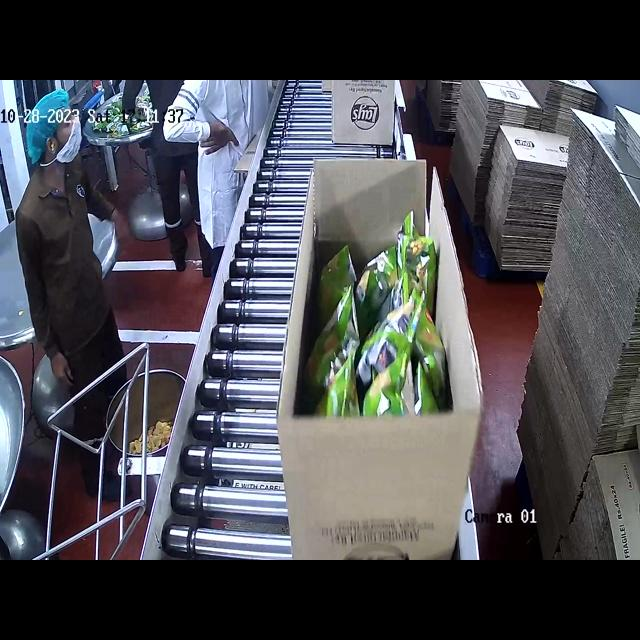yogurt: (324, 244, 446, 400)
